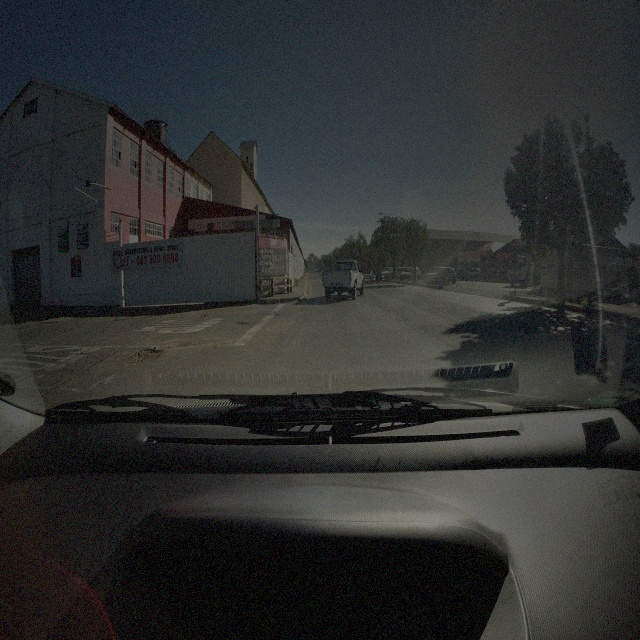pothole: (121, 344, 165, 368), (236, 318, 251, 326), (198, 313, 208, 318)
